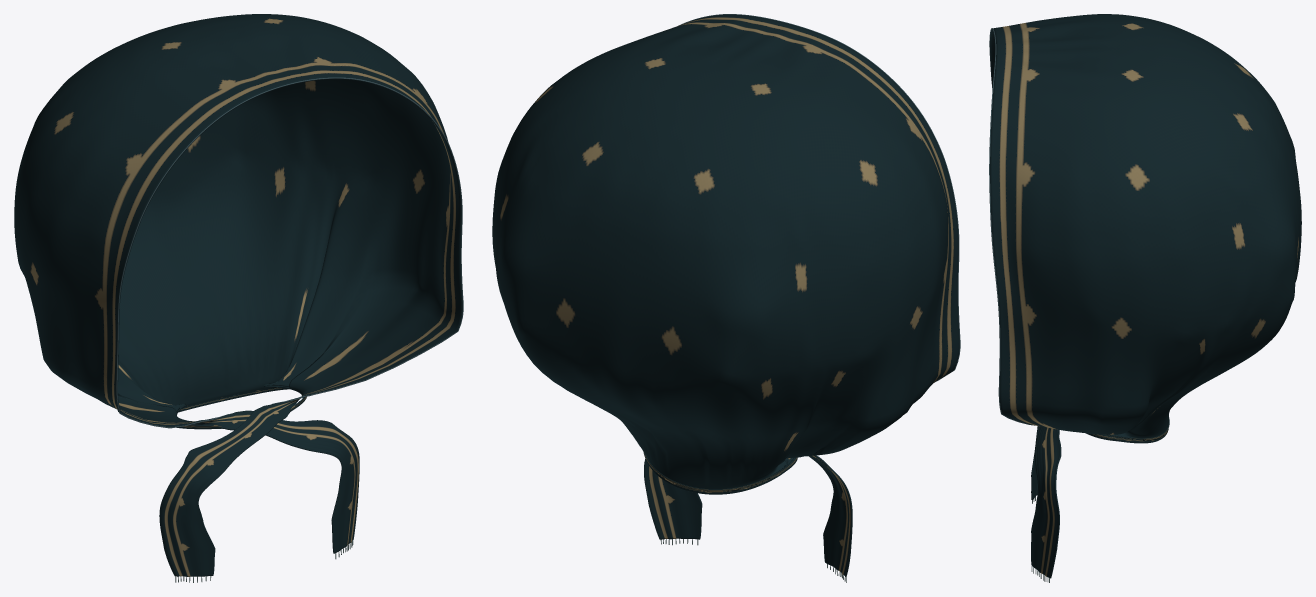
The model's file is Masculine-middle-part-buttonup-pashmina249-headgear.glb.
3 renders of one model, left to right at view 1: azimuth 30°, elevation 25°; view 2: azimuth 150°, elevation 25°; view 3: azimuth 270°, elevation 25°, orthographic. The views are drawn at different scales.
Parts seen in each view (by area): view 1: 226 headgear / Headwear / continuous woven pashmina239, 226 headgear / Headwear / face edge239; view 2: 226 headgear / Headwear / continuous woven pashmina239, 226 headgear / Headwear / face edge239; view 3: 226 headgear / Headwear / continuous woven pashmina239, 226 headgear / Headwear / face edge239.
Part boxes in pixels (bbox=[...]): 226 headgear / Headwear / continuous woven pashmina239: bbox=[14, 14, 462, 576]; 226 headgear / Headwear / face edge239: bbox=[116, 77, 463, 428]; 226 headgear / Headwear / continuous woven pashmina239: bbox=[492, 14, 959, 576]; 226 headgear / Headwear / face edge239: bbox=[678, 14, 960, 382]; 226 headgear / Headwear / continuous woven pashmina239: bbox=[990, 14, 1301, 578]; 226 headgear / Headwear / face edge239: bbox=[989, 28, 1034, 425].
Bounding box in the file's own units: 1.12 × 1.39 × 0.7917.
3 materials, 1 textured.
